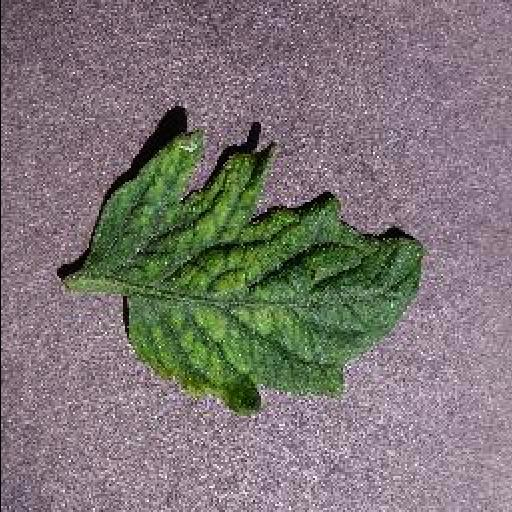Mosaic Virus: (84, 132, 430, 414)
